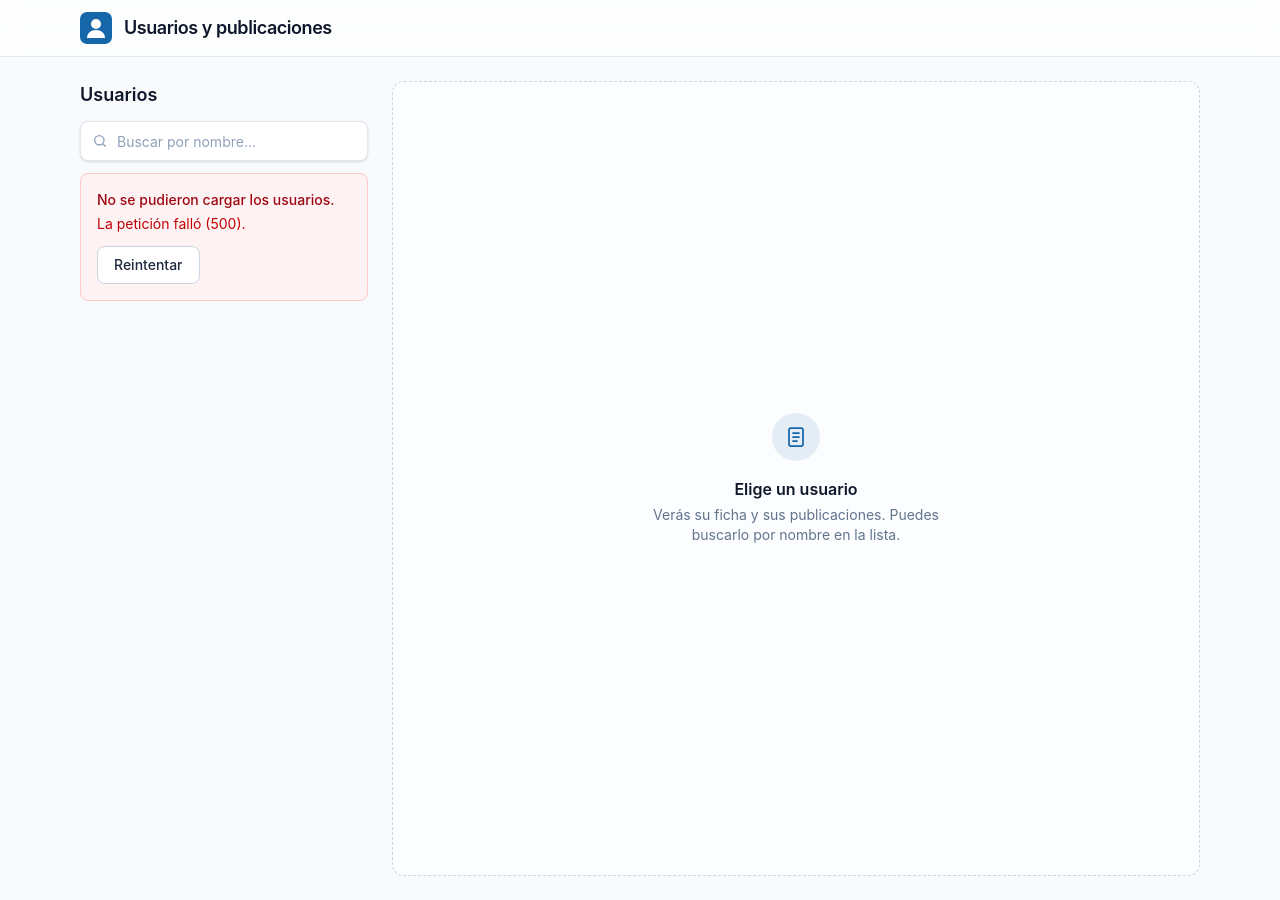
Test: Lista de usuarios › si la API falla, muestra el error y 'Reintentar' vuelve a cargar
Expected: the message shows "No se pudieron cargar los usuarios.", 97,191 -> 334,208
Expected: the message shows "La petición falló (500).", 97,215 -> 246,232
Click the button "Reintentar". click: (148, 265)
box: 97,246 -> 200,284
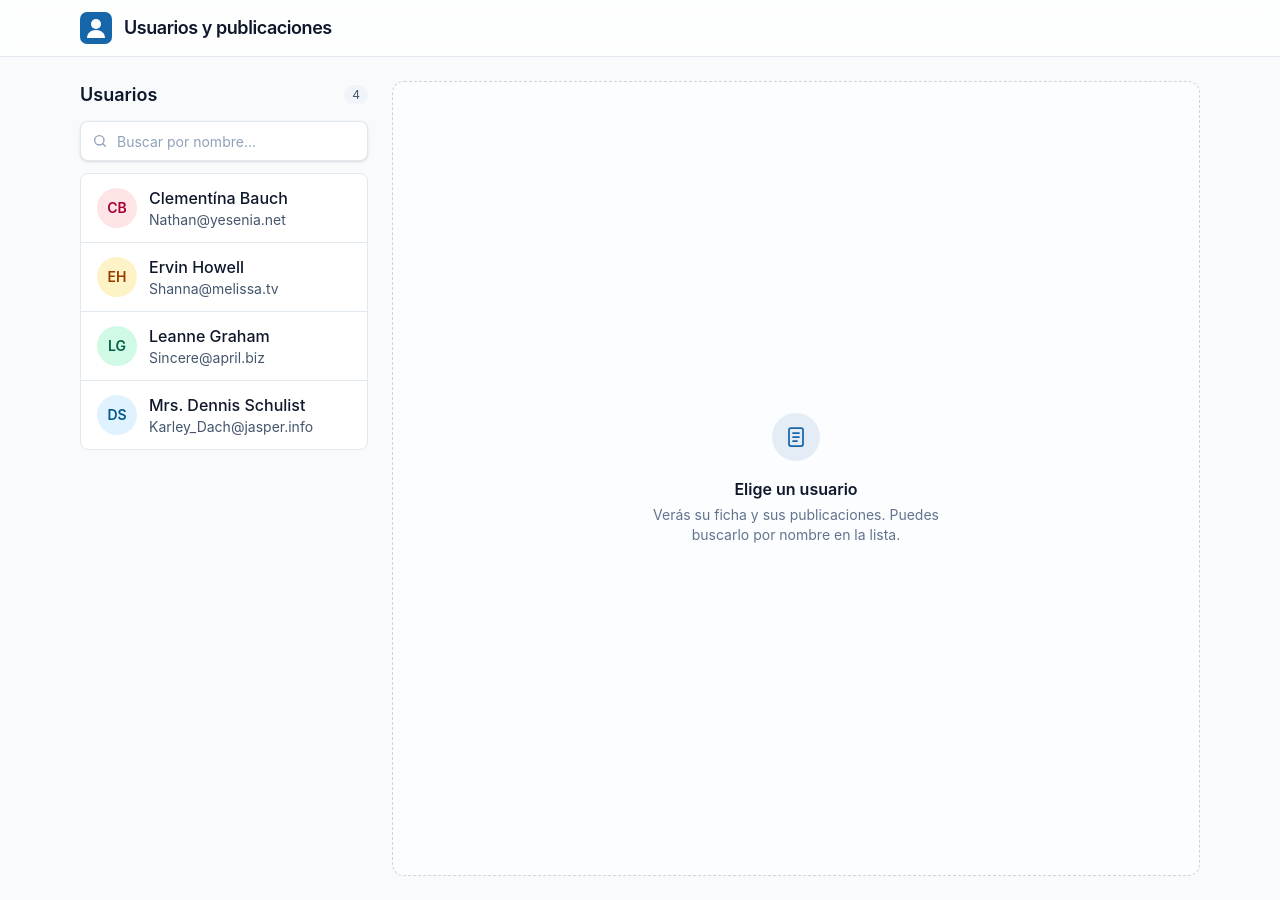
Expected: the list is shown, 80,173 -> 368,450
Expected: the message "No se pudieron cargar los usuarios. La petición falló (500). Reintentar" is gone
